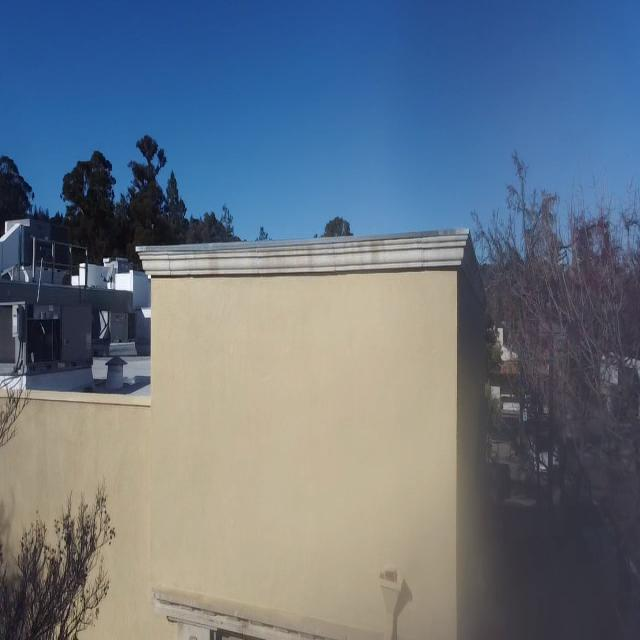Building: (0, 218, 488, 640)
Tree: (468, 155, 640, 612), (0, 377, 108, 640), (61, 149, 120, 253), (165, 168, 236, 240), (128, 140, 169, 246), (0, 153, 33, 221)
